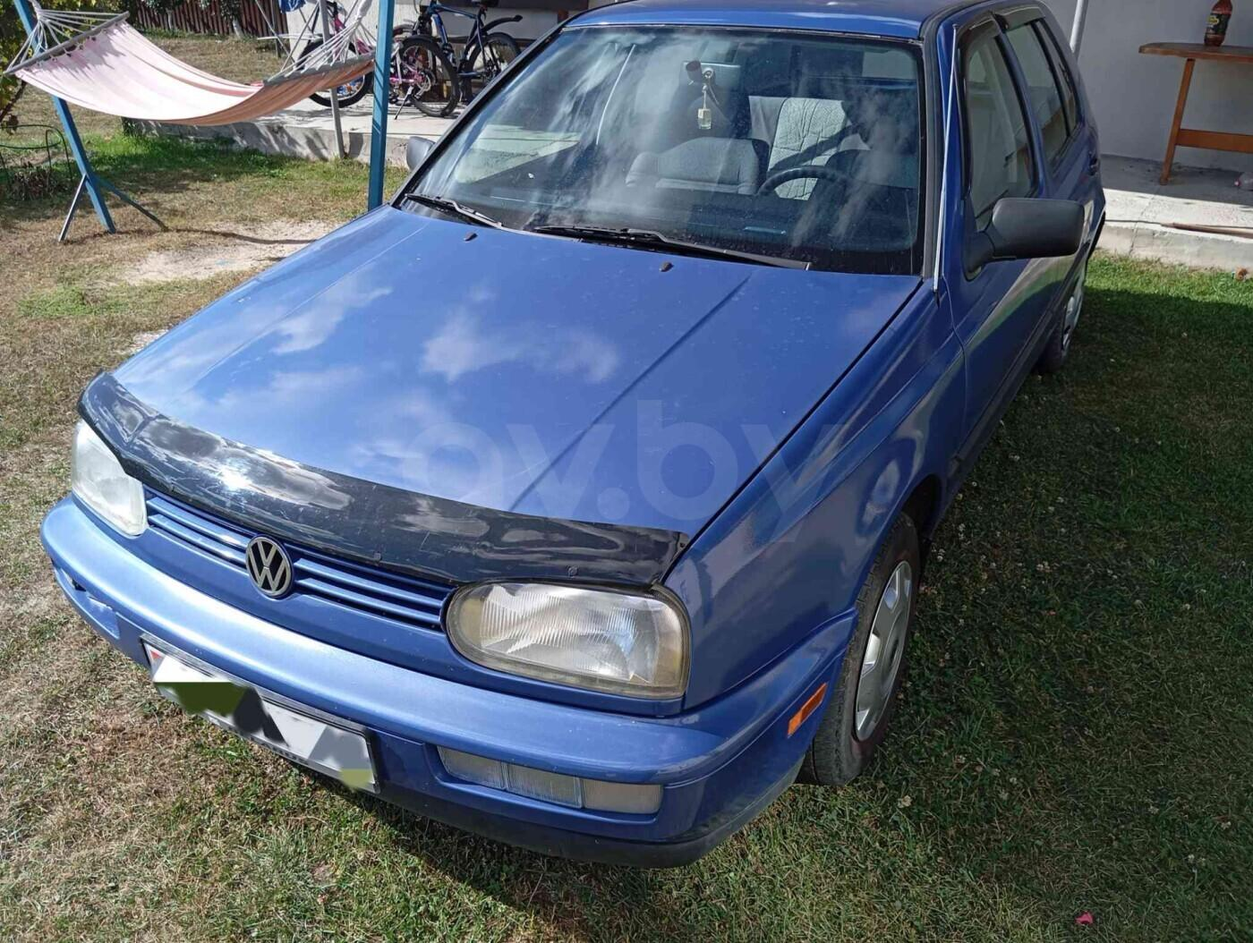Golf_1991-2000: (38, 6, 1123, 853)
